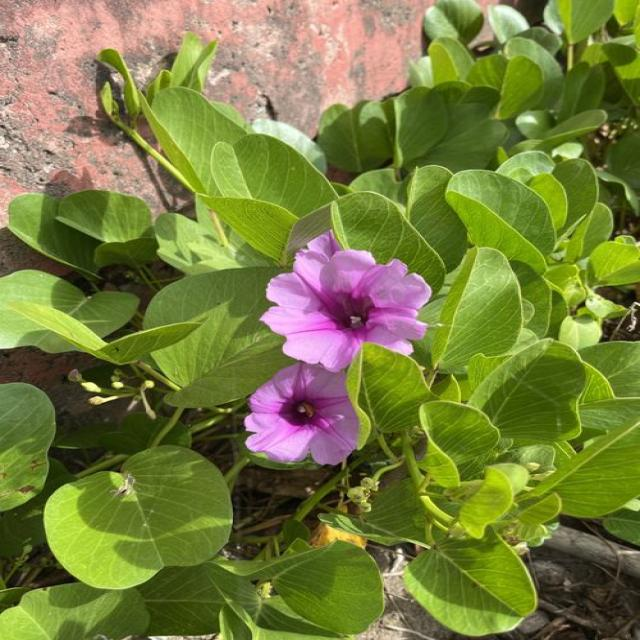ipomoea: (256, 230, 435, 374), (238, 361, 364, 468)
